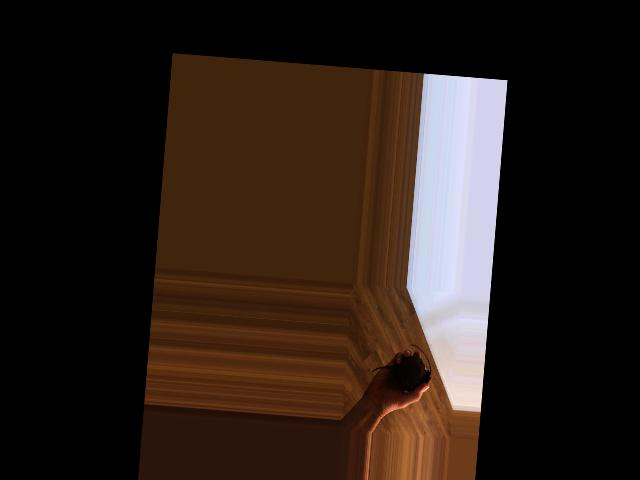beet: (371, 340, 433, 392)
